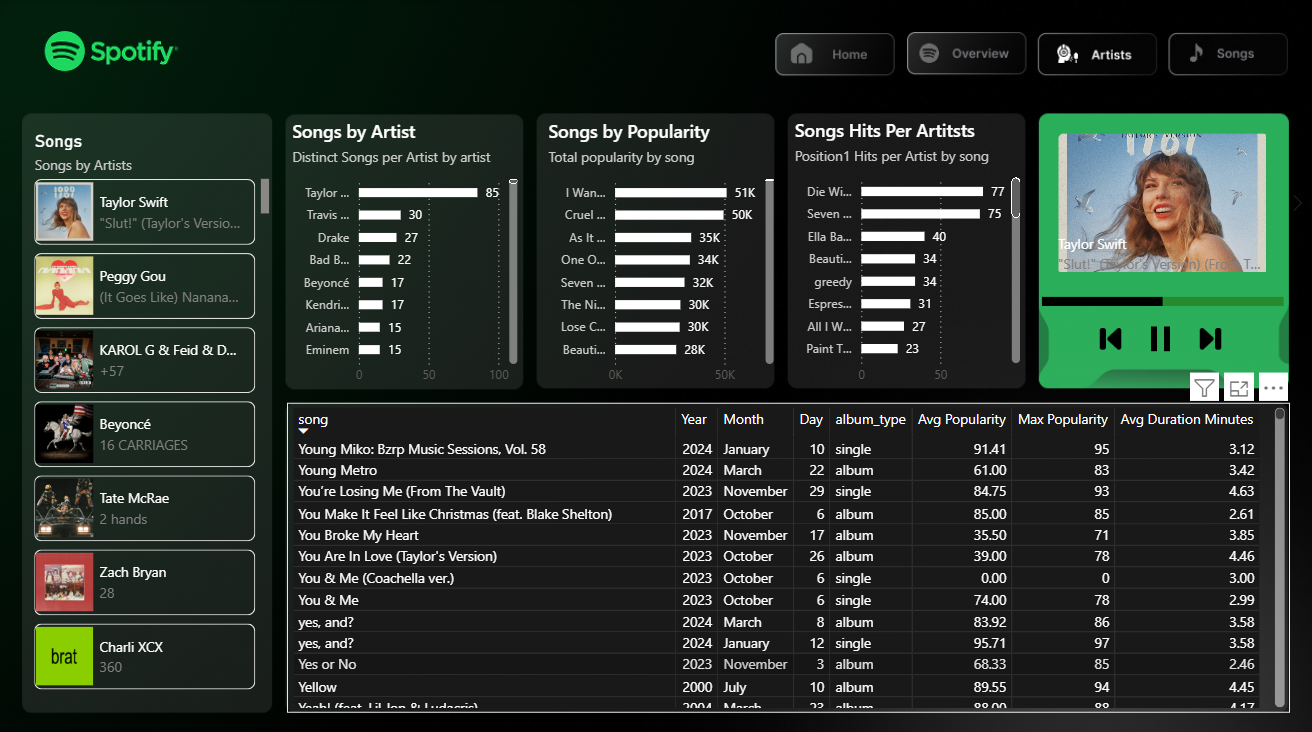

The page's visual inventory and layout, read from the dashboard file:
{"tool":"powerbi","page":{"name":"Artists","canvas":[1280,720],"ordinal":3},"visuals":[{"type":"actionButton","box":[755.4,34.1,117.2,40.4],"z":0},{"type":"actionButton","box":[884.3,35.4,117.2,40.4],"z":1000},{"type":"actionButton","box":[1010.7,34.1,117.2,40.4],"z":2000},{"type":"actionButton","box":[1138.3,35.4,117.2,40.4],"z":3000},{"type":"advancedSlicerVisual","title":"Songs","fields":{"Values":["Top-50-World.song"]},"box":[985.7,104.2,294.3,187.5],"z":4000},{"type":"hundredPercentStackedBarChart","fields":{"Y":["_Measures.Avg Popularity","Avg(Top-50-World.popularity)"]},"box":[1010.7,252.7,244.9,76.8],"z":5000},{"type":"group","id":"g1","title":"Group 1","box":[1062.8,317.8,135.5,23.4],"z":6000},{"type":"shape","box":[1009.4,91.2,256.6,291.7],"z":7000},{"type":"clusteredBarChart","title":"Songs by Artist","fields":{"Category":["Top-50-World.artist"],"Y":["_Measures.Distinct Songs per Artist"]},"box":[281.6,116.1,229.2,266.6],"z":8000},{"type":"clusteredBarChart","title":"Songs by Popularity","fields":{"Category":["Top-50-World.song"],"Y":["Sum(Top-50-World.popularity)"]},"box":[531.4,116.1,229.2,266.6],"z":9000},{"type":"clusteredBarChart","title":"Songs Hits Per Artitsts","fields":{"Category":["Top-50-World.song"],"Y":["_Measures.Position1 Hits per Artist"]},"box":[769.7,115.9,229.2,267],"z":10000},{"type":"advancedSlicerVisual","title":"Songs","fields":{"Values":["Top-50-World.song"]},"box":[31.3,127.6,238.3,550.9],"z":11000},{"type":"tableEx","fields":{"Values":["Top-50-World.song","Top-50-World.release_date.Variation.Date Hierarchy.Year","Top-50-World.release_date.Variation.Date Hierarchy.Month","Top-50-World.release_date.Variation.Date Hierarchy.Day","Top-50-World.album_type","_Measures.Avg Popularity","_Measures.Max Popularity","_Measures.Avg Duration Minutes"]},"box":[281.3,392.3,974.4,300.7],"z":12000},{"type":"image","box":[1062.8,317.8,38.6,23.8],"z":20000,"group":"g1"},{"type":"image","box":[1159.6,317.8,38.6,23.8],"z":21000,"group":"g1"},{"type":"image","box":[1111.2,317.8,38.6,23.8],"z":22000,"group":"g1"}]}

Visuals, with their boxes in screenshot pixels (x1, y1, x2, y2), scaled from the page's 1280x720 canvas onto the 1312x732 screenshot:
actionButton: left=774, top=35, right=894, bottom=76
actionButton: left=906, top=36, right=1027, bottom=77
actionButton: left=1036, top=35, right=1156, bottom=76
actionButton: left=1167, top=36, right=1287, bottom=77
"Songs" advancedSlicerVisual: left=1010, top=106, right=1311, bottom=297
hundredPercentStackedBarChart - _Measures.Avg Popularity x Avg(Top-50-World.popularity): left=1036, top=257, right=1287, bottom=335
"Group 1" group: left=1089, top=323, right=1228, bottom=347
shape: left=1035, top=93, right=1298, bottom=389
"Songs by Artist" clusteredBarChart: left=289, top=118, right=524, bottom=389
"Songs by Popularity" clusteredBarChart: left=545, top=118, right=780, bottom=389
"Songs Hits Per Artitsts" clusteredBarChart: left=789, top=118, right=1024, bottom=389
"Songs" advancedSlicerVisual: left=32, top=130, right=276, bottom=690
tableEx - Top-50-World.song x Top-50-World.release_date.Variation.Date Hierarchy.Year: left=288, top=399, right=1287, bottom=705
image: left=1089, top=323, right=1129, bottom=347
image: left=1189, top=323, right=1228, bottom=347
image: left=1139, top=323, right=1179, bottom=347
